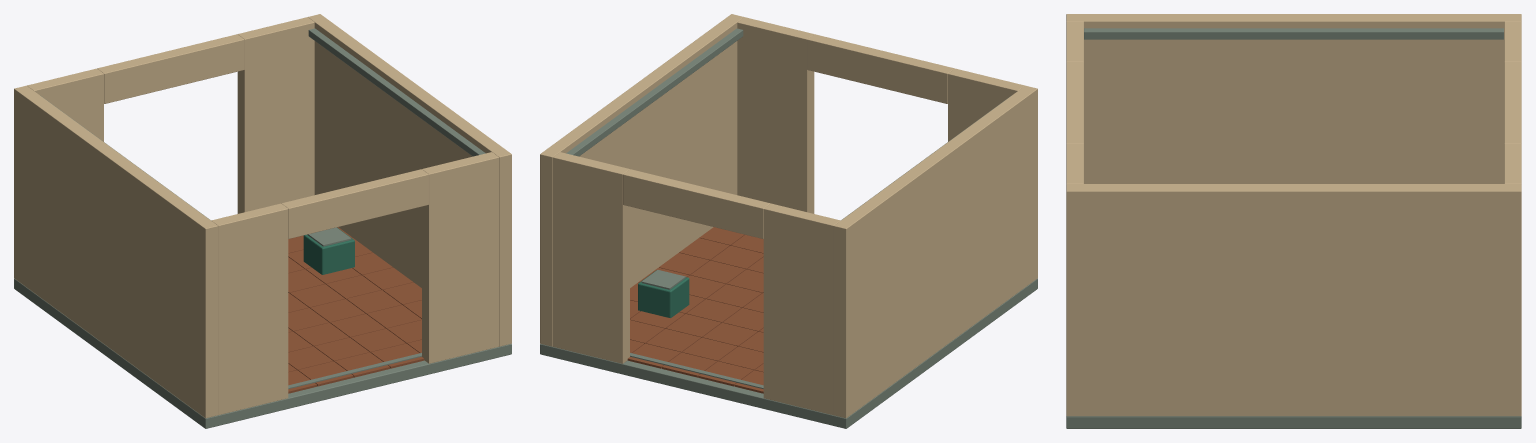
3 renders of one model, left to right at view 1: azimuth 30°, elevation 25°; view 2: azimuth 150°, elevation 25°; view 3: azimuth 270°, elevation 25°, orthographic. The views are drawn at different scales.
Parts seen in each view (by area): view 1: COURT_SideWall.001, COURT_SideWall, COURT_EndPier.002, COURT_EndPier.001, COURT_EndPier, COURT_Foundation, COURT_Lintel, COURT_Lintel.001, COURT_EndPier.003, COURT_Cornice, COURT_Planter, COURT_Paver.050 (+20 smaller); view 2: COURT_SideWall.001, COURT_SideWall, COURT_EndPier, COURT_EndPier.003, COURT_EndPier.002, COURT_Foundation, COURT_Lintel.001, COURT_Lintel, COURT_EndPier.001, COURT_Cornice, COURT_Planter, COURT_Paver.050 (+21 smaller); view 3: COURT_SideWall, COURT_SideWall.001, COURT_Foundation, COURT_Cornice.001, COURT_Lintel.001, COURT_Lintel, COURT_EndPier.002, COURT_EndPier, COURT_EndPier.001, COURT_EndPier.003.
Boxes of the visible parts, x1,y1,x2,y2 form: COURT_SideWall.001: (14,85,218,418); COURT_SideWall: (308,14,511,346); COURT_EndPier.002: (422,152,498,363); COURT_EndPier.001: (211,203,288,415); COURT_EndPier: (237,17,314,213); COURT_Foundation: (14,278,511,428); COURT_Lintel: (97,34,244,103); COURT_Lintel.001: (281,169,428,238); COURT_EndPier.003: (27,68,103,141); COURT_Cornice: (308,28,485,156); COURT_Planter: (303,227,354,274); COURT_Paver.050: (289,284,345,307); COURT_SideWall.001: (833,85,1037,418); COURT_SideWall: (540,14,743,346); COURT_EndPier: (553,152,629,363); COURT_EndPier.003: (763,203,840,415); COURT_EndPier.002: (737,17,814,213); COURT_Foundation: (540,278,1037,428); COURT_Lintel.001: (807,34,954,103); COURT_Lintel: (623,169,770,238); COURT_EndPier.001: (948,68,1024,141); COURT_Cornice: (566,28,743,156); COURT_Planter: (638,270,689,317); COURT_Paver.050: (706,284,762,307); COURT_SideWall: (1066,184,1521,416); COURT_SideWall.001: (1066,14,1521,183); COURT_Foundation: (1066,416,1521,428); COURT_Cornice.001: (1084,28,1503,39); COURT_Lintel.001: (1066,62,1083,143); COURT_Lintel: (1504,62,1521,143); COURT_EndPier.002: (1066,143,1083,184); COURT_EndPier: (1504,143,1521,184); COURT_EndPier.001: (1066,21,1083,61); COURT_EndPier.003: (1504,21,1521,61).
Size of the model in its own units: 4.8 by 3 by 5.2.
